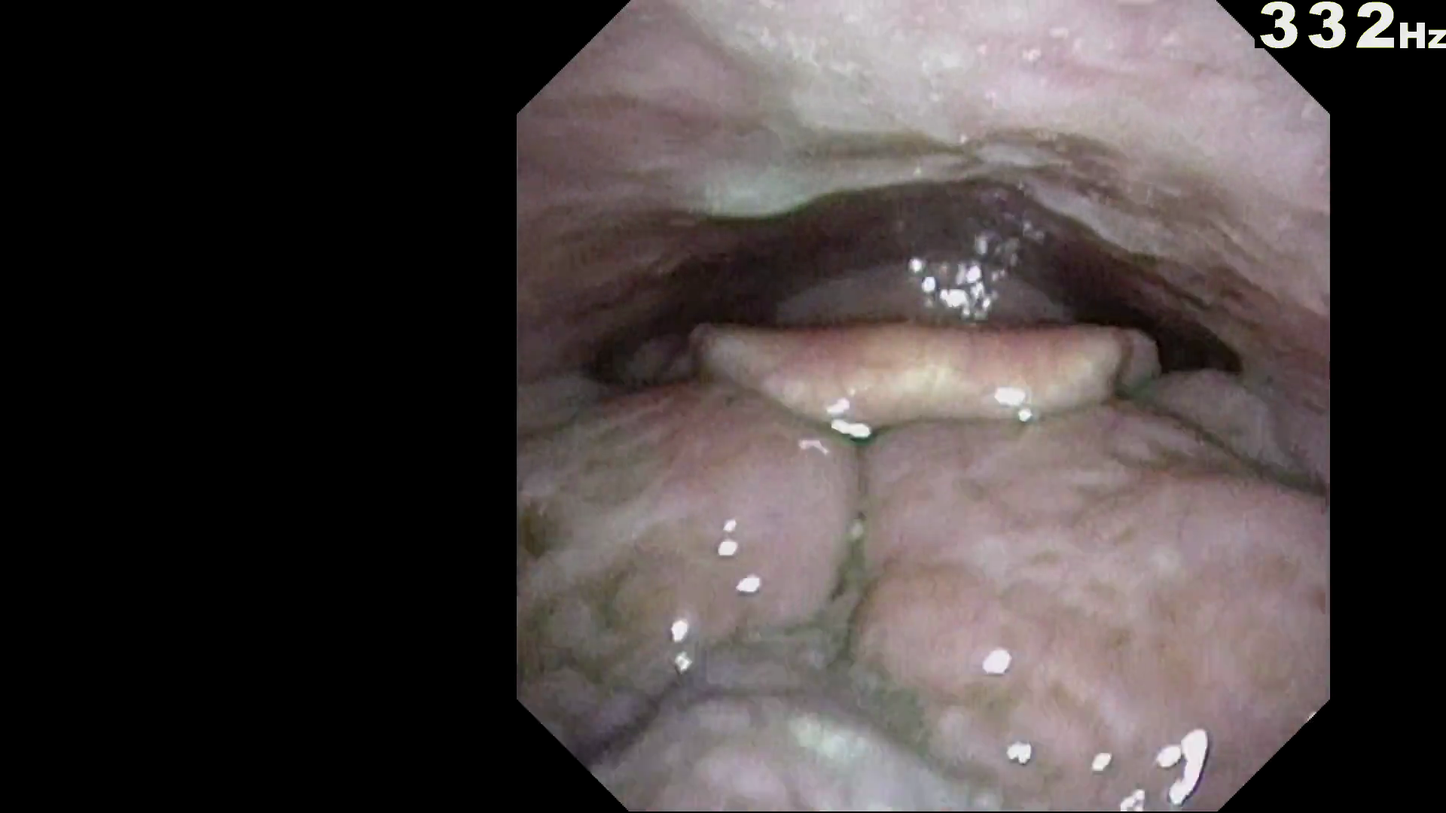epiglottis: (623, 435, 1191, 575)
trachea: (845, 414, 1005, 486)
